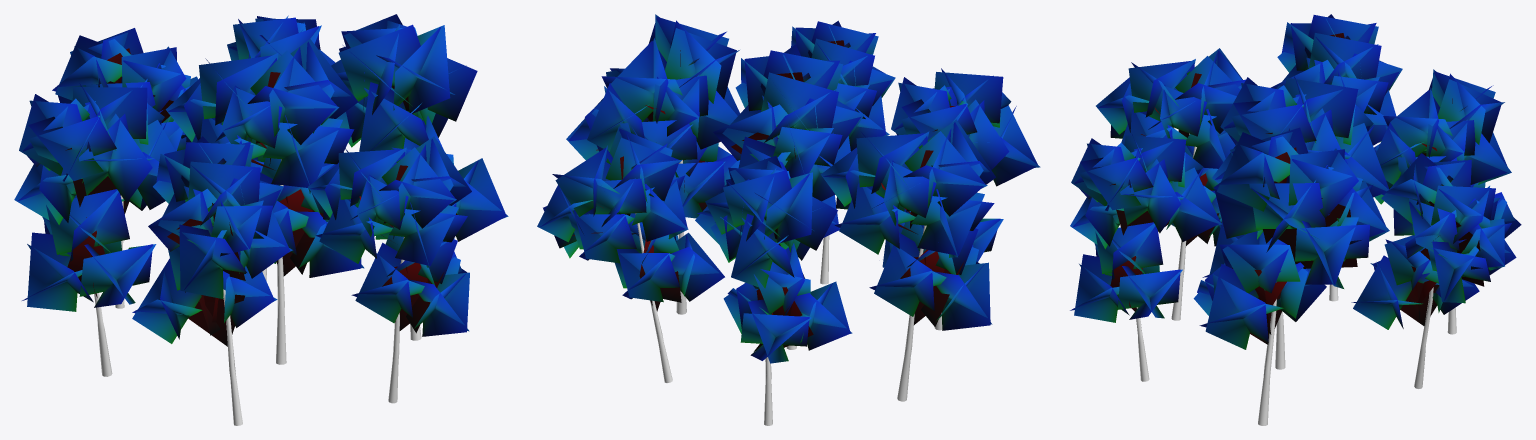
Rendered from scraggly_forest.dae.
3 views of the same model, side by side, from view 1: azimuth 30°, elevation 25°; view 2: azimuth 150°, elevation 25°; view 3: azimuth 270°, elevation 25° (orthographic). The views are drawn at different scales.
Visible parts, largest first — view 1: scots_pine_tall_026; view 2: scots_pine_tall_026; view 3: scots_pine_tall_026.
Boxes of the visible parts, <box> form: scots_pine_tall_026: <box>14,14,508,425</box>; scots_pine_tall_026: <box>537,14,1040,425</box>; scots_pine_tall_026: <box>1070,14,1521,425</box>.
Bounding box in the file's own units: 20.41 × 19.45 × 13.65.
